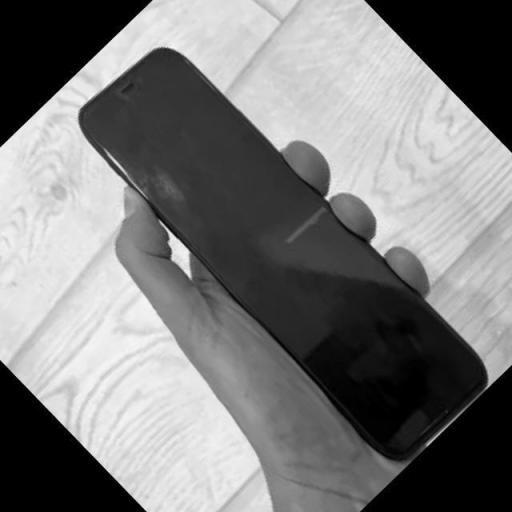phone: (76, 40, 491, 451)
